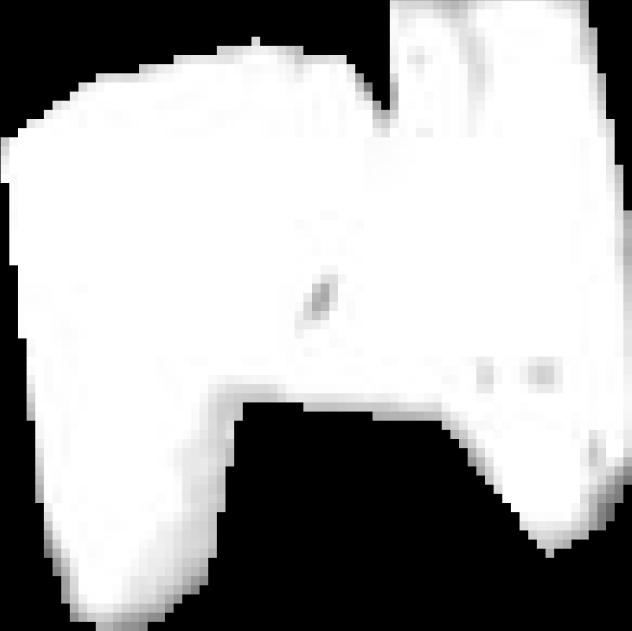tumor_good_chance: (1, 0, 632, 631)
